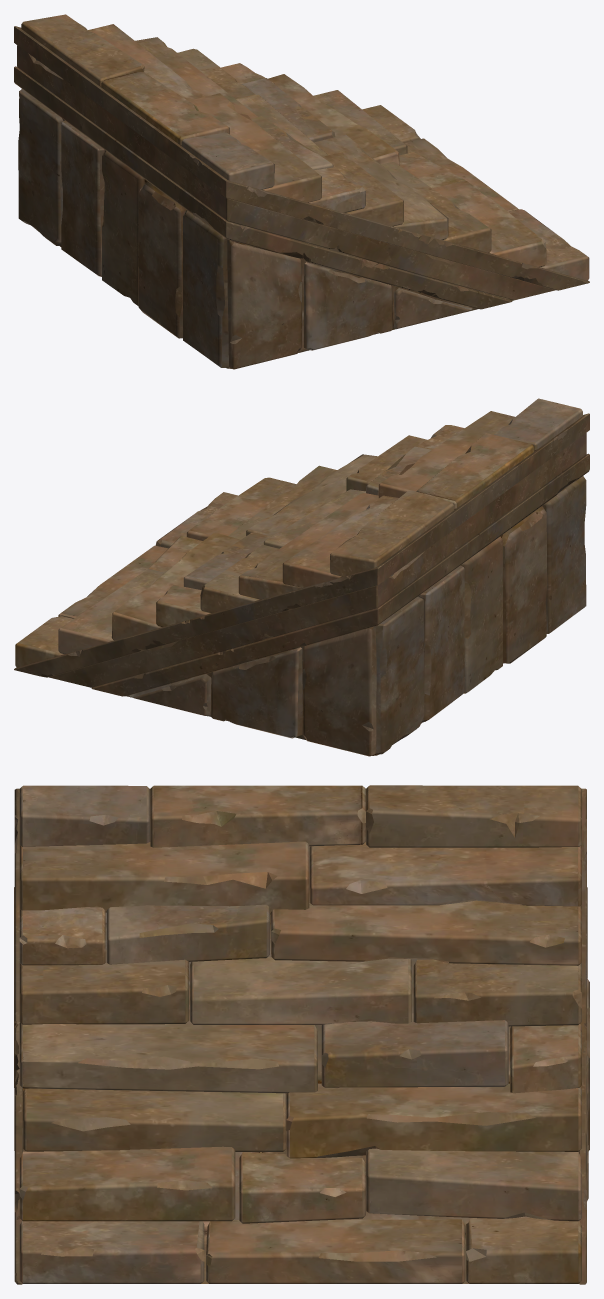
3 renders of one model, top to bottom at view 1: azimuth 30°, elevation 25°; view 2: azimuth 150°, elevation 25°; view 3: azimuth 270°, elevation 25°, orthographic. The views are drawn at different scales.
Visible parts, largest first — view 1: SM_Vault_4m_Stairs_01_LOD0; view 2: SM_Vault_4m_Stairs_01_LOD0; view 3: SM_Vault_4m_Stairs_01_LOD0.
Boxes of the visible parts, x1=… form: SM_Vault_4m_Stairs_01_LOD0: x1=14, y1=14, x2=589, y2=369; SM_Vault_4m_Stairs_01_LOD0: x1=14, y1=398, x2=589, y2=756; SM_Vault_4m_Stairs_01_LOD0: x1=14, y1=785, x2=589, y2=1284.
Bounding box in the file's own units: 4.09 × 2.11 × 4.1.
Materials: 3 (3 with a texture image).
